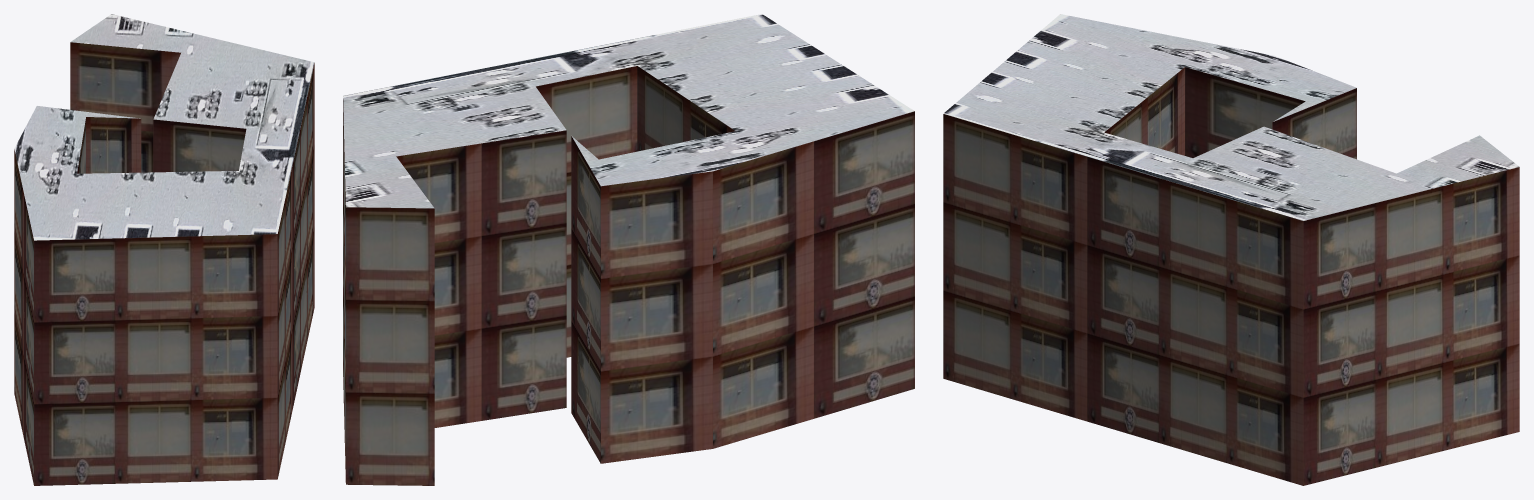
File: ResTex__5246.fbx
3 renders of one model, left to right at view 1: azimuth 30°, elevation 25°; view 2: azimuth 150°, elevation 25°; view 3: azimuth 270°, elevation 25°, orthographic. The views are drawn at different scales.
Parts seen in each view (by area): view 1: CityEngineMaterial_13_m, CityEngineMaterial_m; view 2: CityEngineMaterial_13_m, CityEngineMaterial_m; view 3: CityEngineMaterial_13_m, CityEngineMaterial_m.
Part boxes in pixels (left/top/right/bottom): CityEngineMaterial_13_m: left=14, top=42, right=314, bottom=485; CityEngineMaterial_m: left=14, top=14, right=314, bottom=240; CityEngineMaterial_13_m: left=343, top=66, right=914, bottom=485; CityEngineMaterial_m: left=343, top=14, right=914, bottom=208; CityEngineMaterial_13_m: left=943, top=67, right=1519, bottom=485; CityEngineMaterial_m: left=943, top=14, right=1519, bottom=220.
Bounding box in the file's own units: 15.08 × 9 × 17.75.
2 materials, 2 textured.
